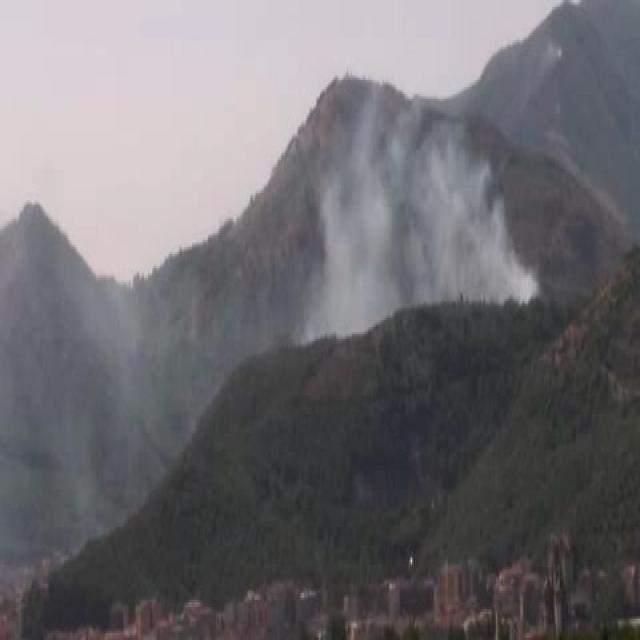smoke: (317, 101, 510, 316)
